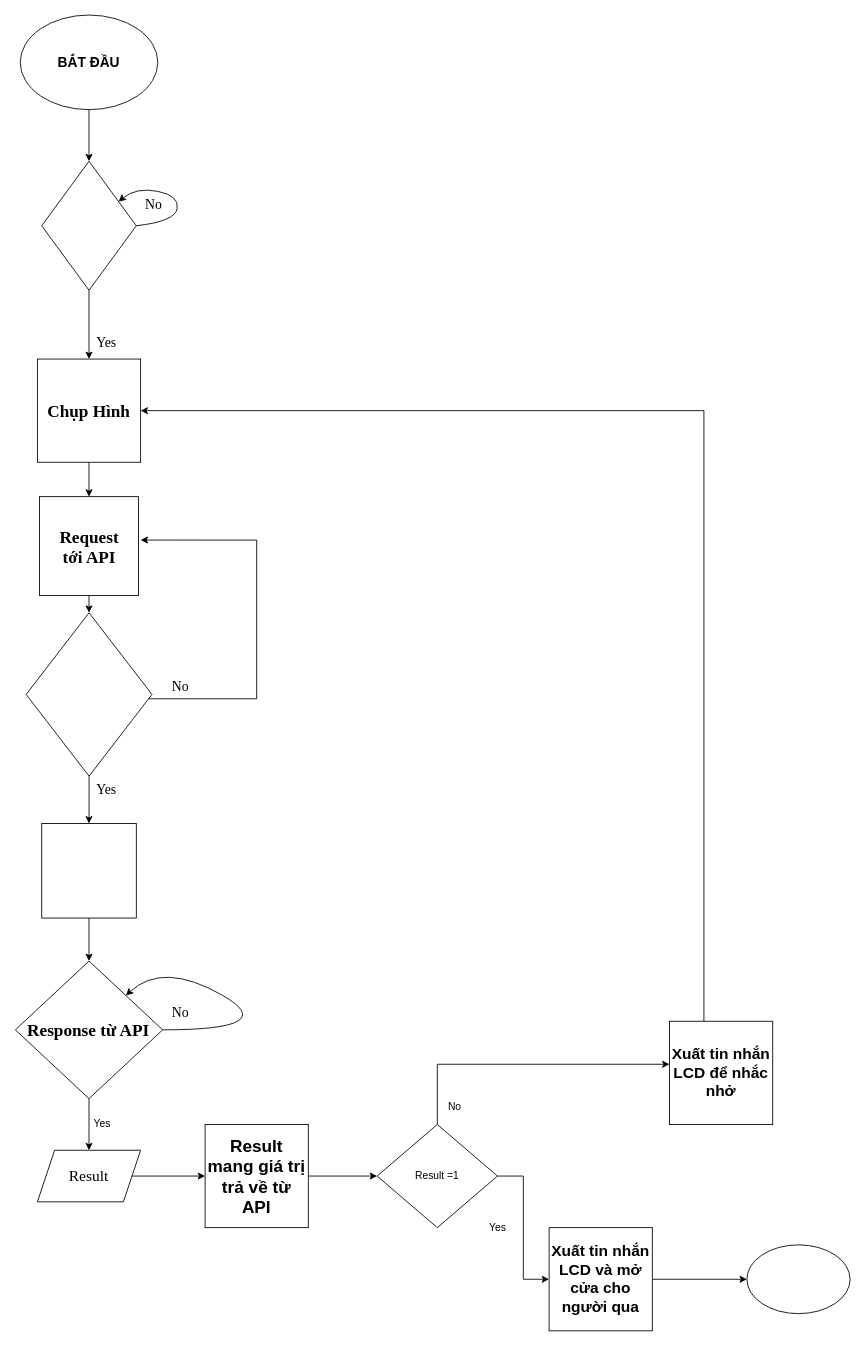
Image size: 865x1346. Some labels were removed from this diagram. The centre of each missing label's shape, as x and y in pixels:
Có người tiếp cận: pixel 88 225
Gửi hình tới API: pixel 88 870
Kiểm tra phản hồi: pixel 88 694
KẾT THÚC: pixel 798 1279
